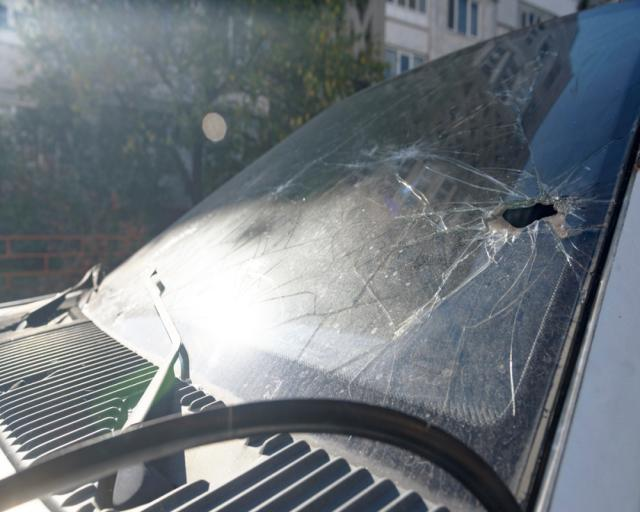glass shatter: (80, 0, 640, 512)
